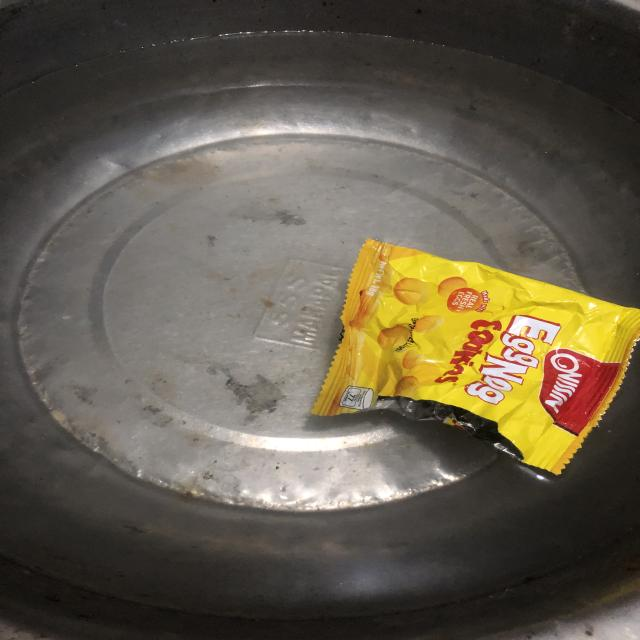Plastic Wrapper: (311, 240, 640, 474)
